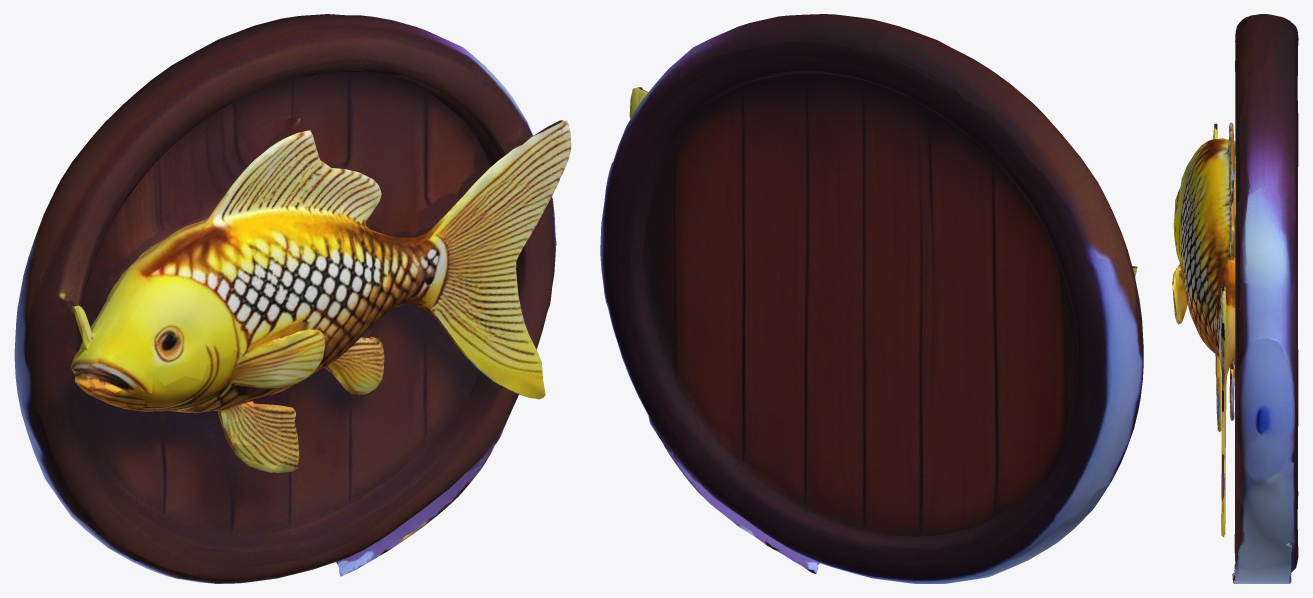
File: fish_trophy.glb
3 views of the same model, side by side, from view 1: azimuth 30°, elevation 25°; view 2: azimuth 150°, elevation 25°; view 3: azimuth 270°, elevation 25° (orthographic). The views are drawn at different scales.
Parts seen in each view (by area): view 1: fish_trophy; view 2: fish_trophy; view 3: fish_trophy.
Part boxes in pixels (box(x1,y1,x2,y2)): fish_trophy: box(14, 14, 571, 583); fish_trophy: box(600, 14, 1143, 583); fish_trophy: box(1172, 14, 1298, 583).
Bounding box in the file's own units: 1 × 0.9897 × 0.2202.
1 material, 1 textured.
